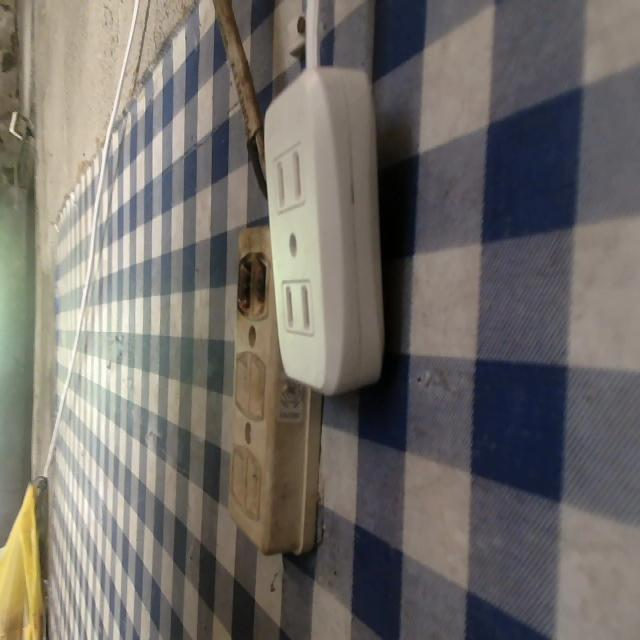-: (229, 241, 272, 316)
